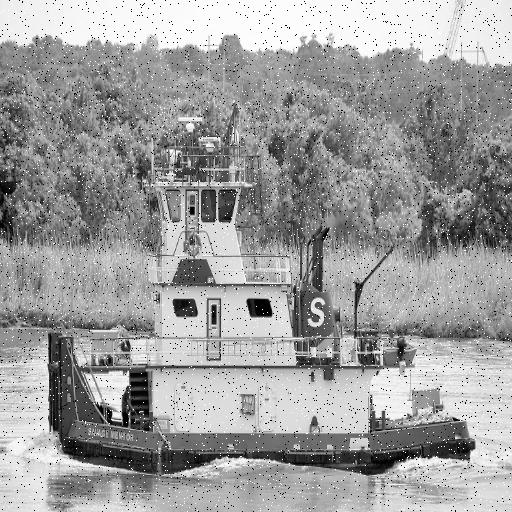tugboat: (46, 100, 481, 492)
